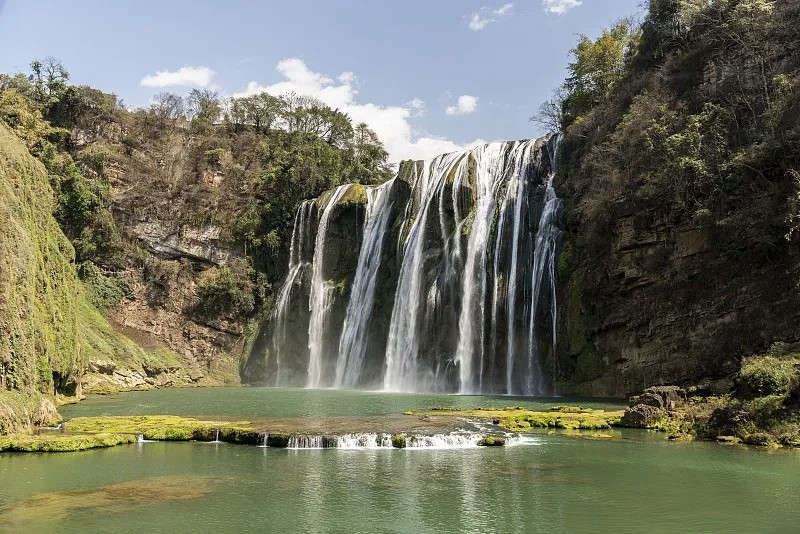Huangguoshu: (259, 139, 559, 393)
